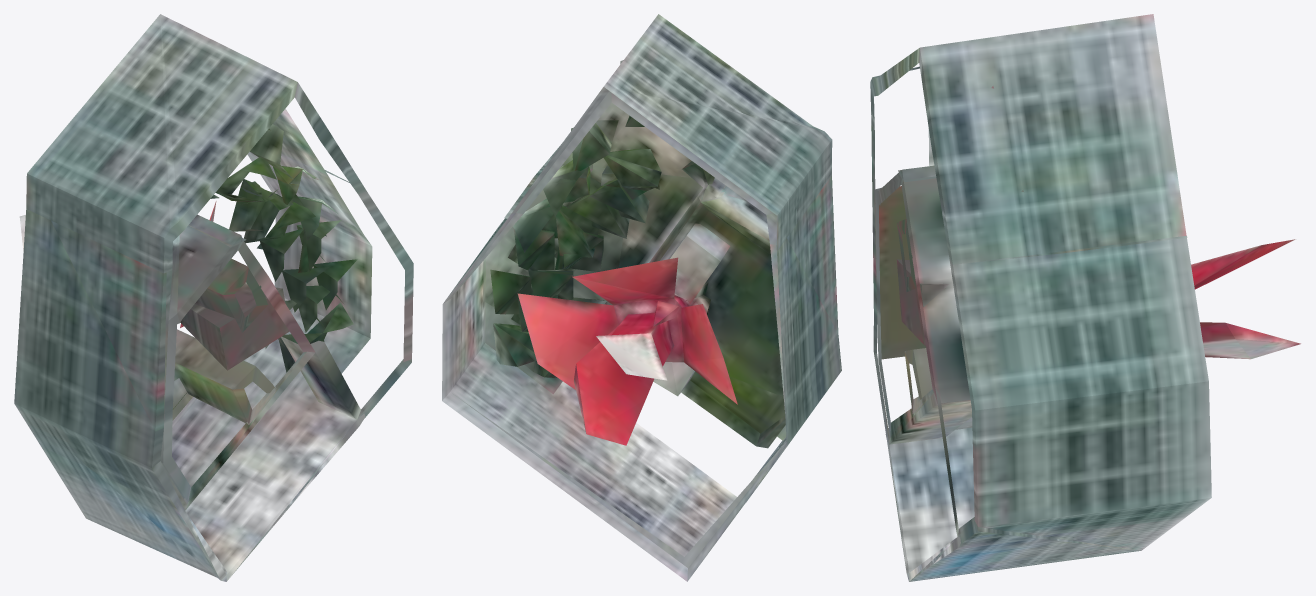
File: tile_160.glb
The picture shows the model from 3 angles, left to right: view 1: azimuth 30°, elevation 25°; view 2: azimuth 150°, elevation 25°; view 3: azimuth 270°, elevation 25°; orthographic projection. The views are drawn at different scales.
Size of the model in its own units: 61.97 by 83.37 by 55.38.
Materials: 1 (1 with a texture image).
